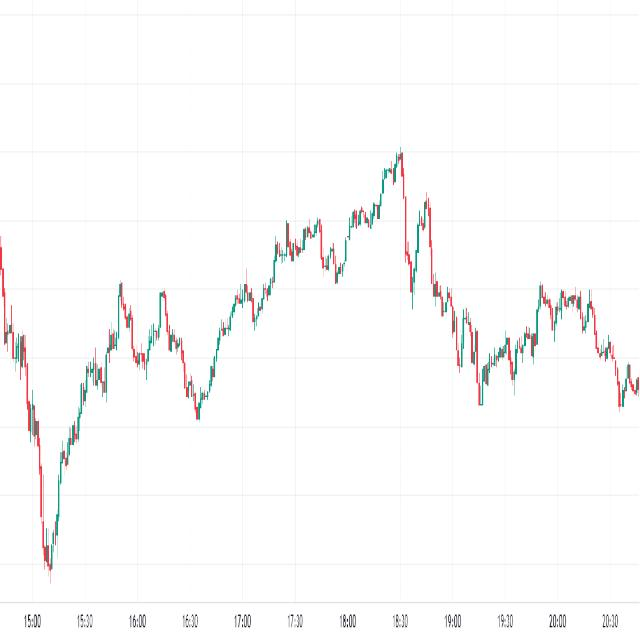Inverse-Head-Shoulders: (0, 262, 122, 594)
Rounding-Bottom: (433, 262, 545, 412)
